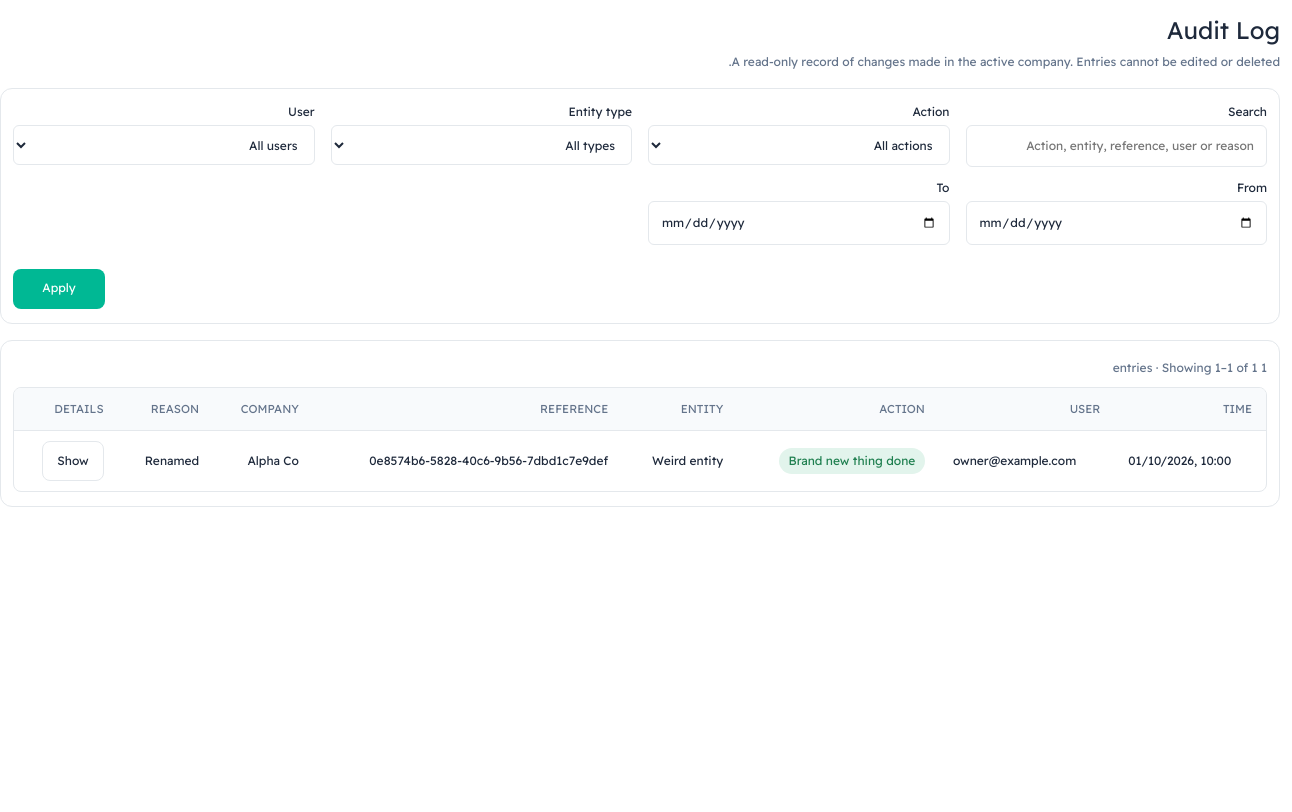
Scenario: AuditLog › renders structured details and survives unknown action, entity and fields
Expected: the text "Brand new thing done" is shown, [779,448,925,474]
Expected: the text "Weird entity" is shown, [622,431,737,491]
Click the button "Show" at {"x": 73, "y": 461}, box [42,441,104,481]
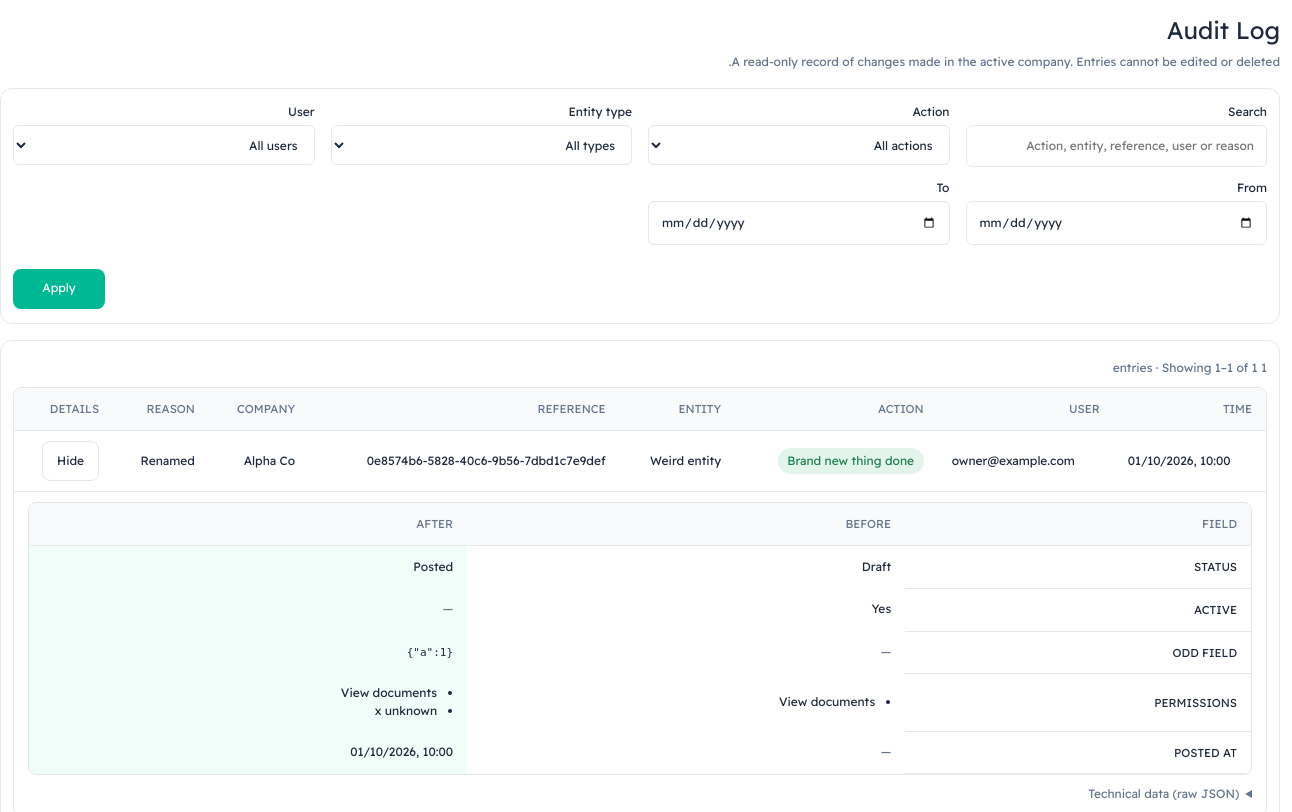
Expected: the column heading "Status" is shown, [905,545,1251,588]
Expected: the text "Draft" is shown, [467,545,905,588]
Expected: the text "Posted" is shown, [29,545,467,588]
